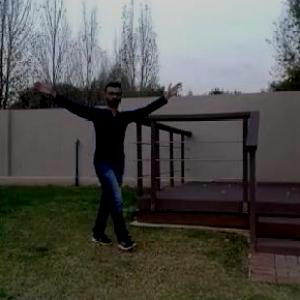takeoff: (42, 86, 182, 251)
